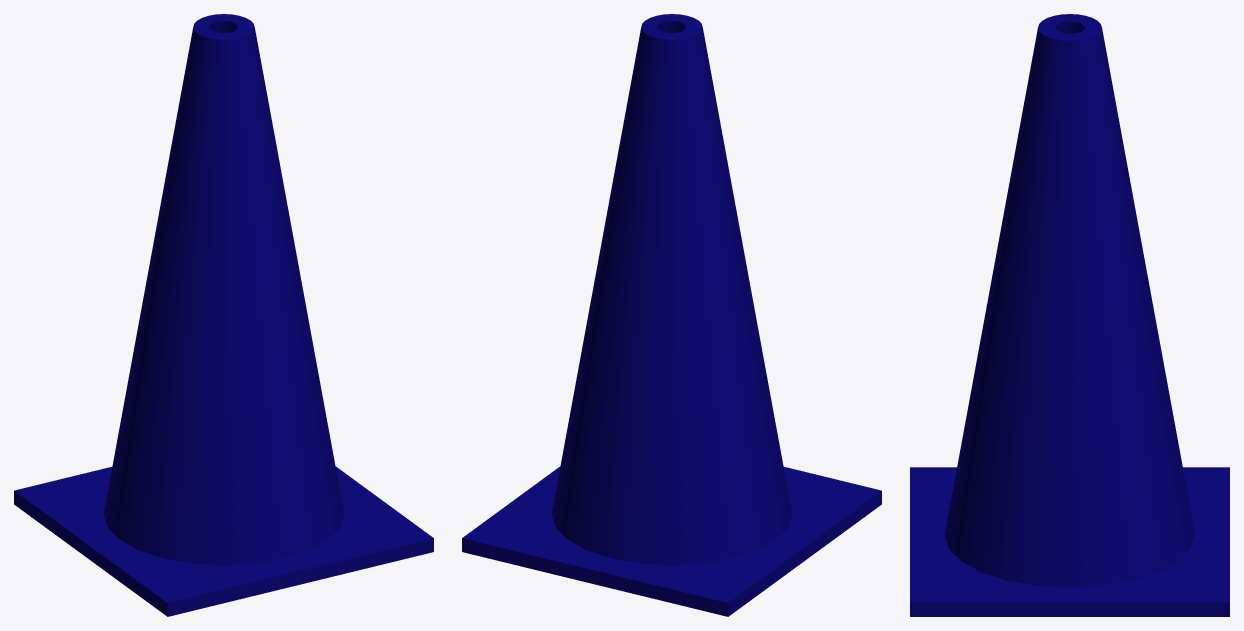
File: Blue Cone.FBX
3 views of the same model, side by side, from view 1: azimuth 30°, elevation 25°; view 2: azimuth 150°, elevation 25°; view 3: azimuth 270°, elevation 25° (orthographic). The views are drawn at different scales.
Visible parts, largest first — view 1: Box001; view 2: Box001; view 3: Box001.
Boxes of the visible parts, bbox=[...] form: Box001: bbox=[14, 14, 433, 616]; Box001: bbox=[462, 14, 881, 616]; Box001: bbox=[910, 14, 1229, 616].
Bounding box in the file's own units: 10 × 18 × 10.
